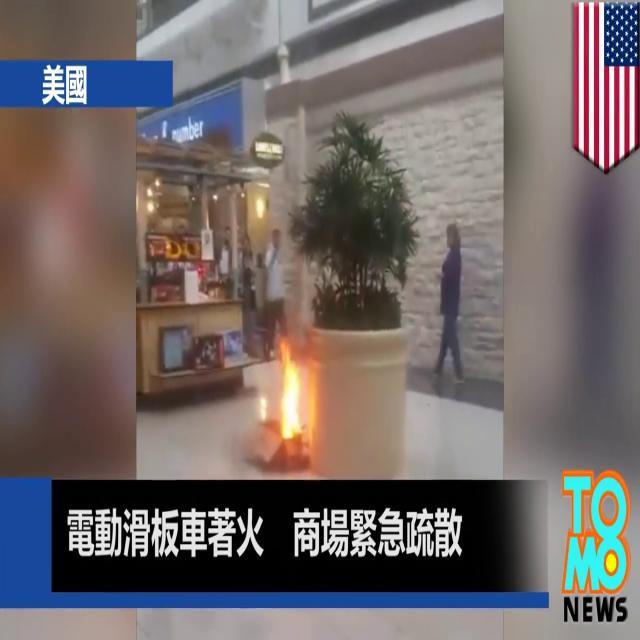Fire: (273, 339, 309, 445)
Smoke: (0, 108, 136, 466)
